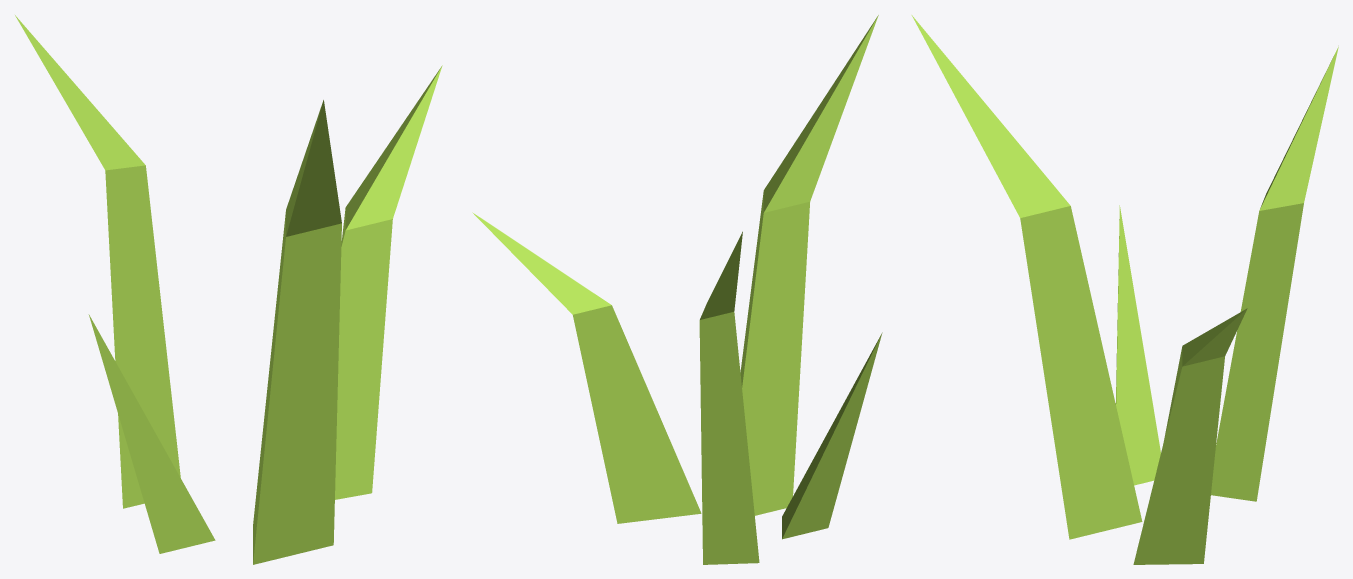
Rendered from Grass.fbx.
The picture shows the model from 3 angles, left to right: view 1: azimuth 30°, elevation 25°; view 2: azimuth 150°, elevation 25°; view 3: azimuth 270°, elevation 25°; orthographic projection. The views are drawn at different scales.
Parts seen in each view (by area): view 1: Cylinder.001; view 2: Cylinder.001; view 3: Cylinder.001.
Boxes of the visible parts, x1,y1,x2,y2 form: Cylinder.001: [15, 15, 442, 564]; Cylinder.001: [472, 15, 882, 564]; Cylinder.001: [911, 15, 1338, 564].
Size of the model in its own units: 92.06 by 111 by 88.81.
